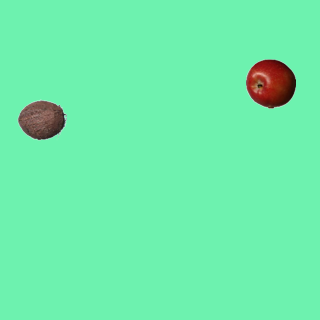Apple Braeburn: (245, 58, 295, 108)
Cocos: (16, 94, 66, 144)
